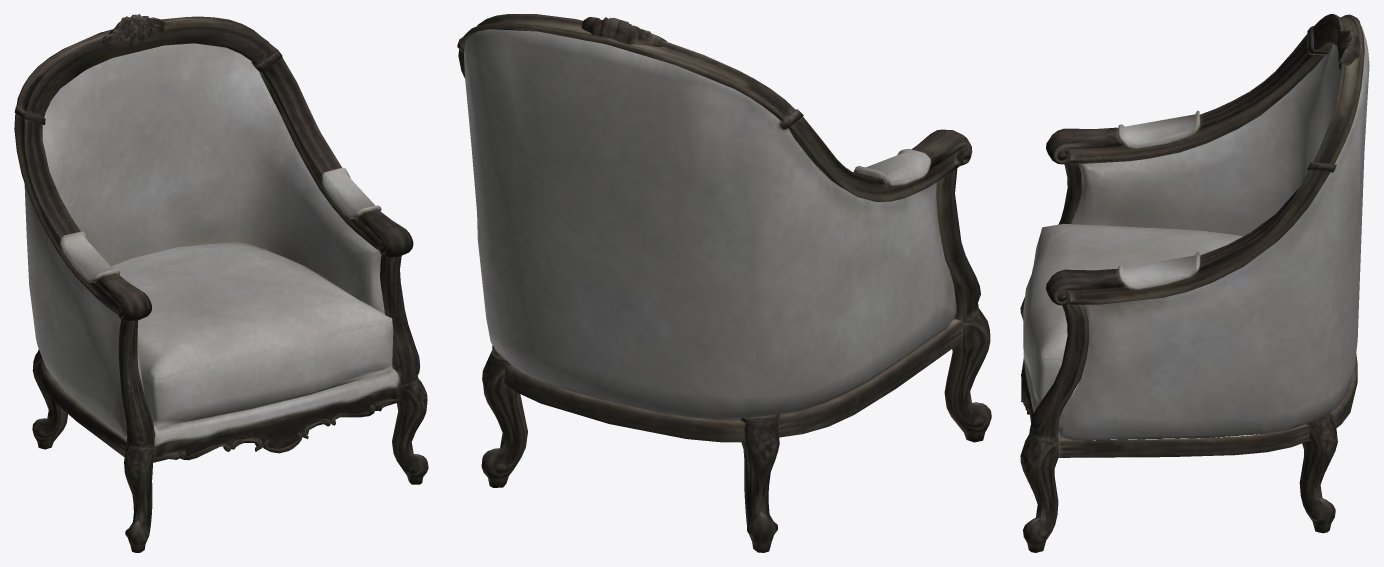
File: ArmChair_01.glb
3 renders of one model, left to right at view 1: azimuth 30°, elevation 25°; view 2: azimuth 150°, elevation 25°; view 3: azimuth 270°, elevation 25°, orthographic. The views are drawn at different scales.
Visible parts, largest first — view 1: ArmChair_01; view 2: ArmChair_01; view 3: ArmChair_01.
Boxes of the visible parts, x1=… form: ArmChair_01: x1=14, y1=14, x2=428, y2=552; ArmChair_01: x1=457, y1=14, x2=991, y2=552; ArmChair_01: x1=1020, y1=14, x2=1369, y2=552.
Size of the model in its own units: 0.8483 by 1.06 by 0.7658.
1 material, 1 textured.
